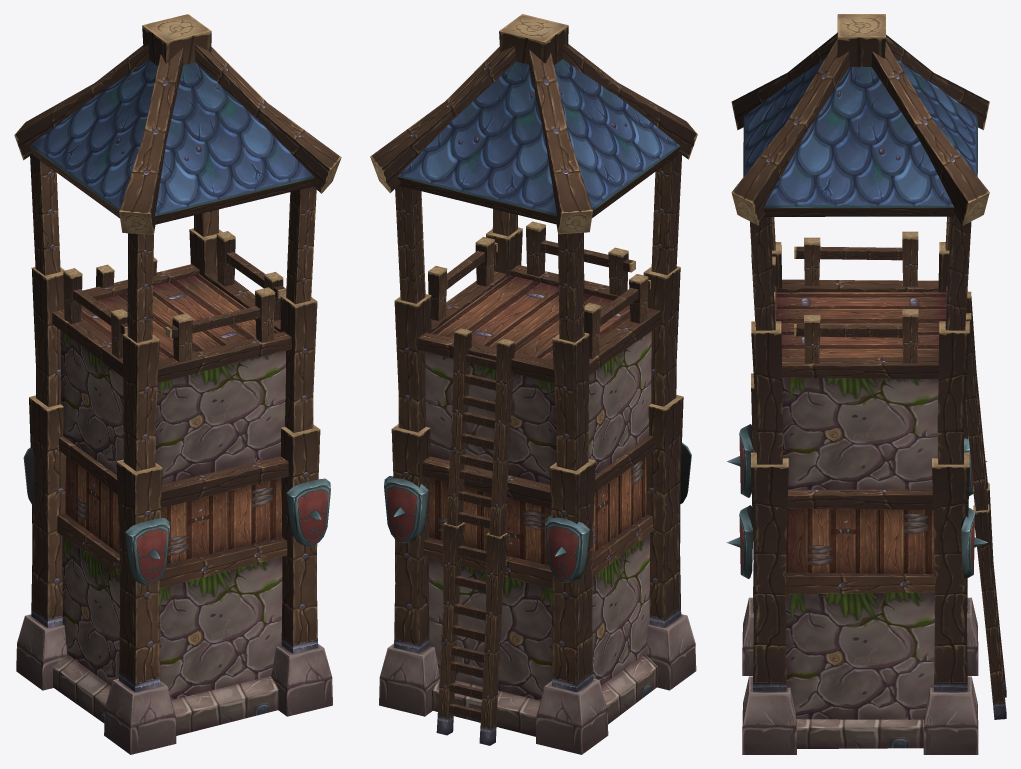
The model's file is village_tower_01.fbx.
3 renders of one model, left to right at view 1: azimuth 30°, elevation 25°; view 2: azimuth 150°, elevation 25°; view 3: azimuth 270°, elevation 25°, orthographic. The views are drawn at different scales.
Visible parts, largest first — view 1: village_tower_01; view 2: village_tower_01; view 3: village_tower_01.
Boxes of the visible parts, x1,y1,x2,y2 form: village_tower_01: [14, 14, 341, 754]; village_tower_01: [370, 14, 697, 754]; village_tower_01: [726, 14, 1006, 754].
Bounding box in the file's own units: 8.91 × 25.22 × 9.42.
